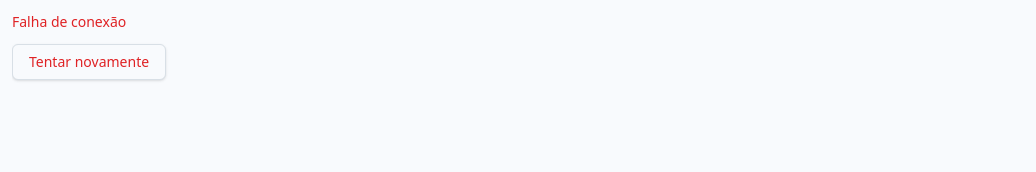
Test: Resultados da conta › permite consultar novamente após erro sem inserir dados
Expected: the message "Falha de conexão Tentar novamente" is shown, [12,12,166,80]
Click the button "Tentar novamente".
click(89, 62)  # box [12,44,166,80]
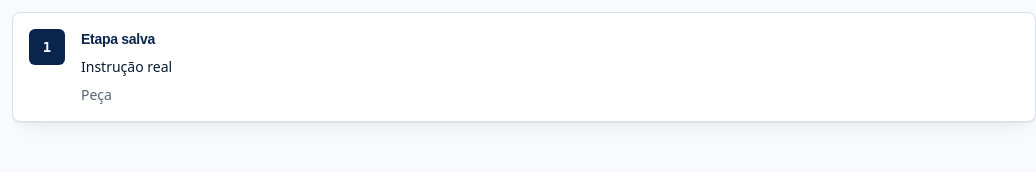
Now the heading "Etapa salva" is shown, box [81,31,155,47]
